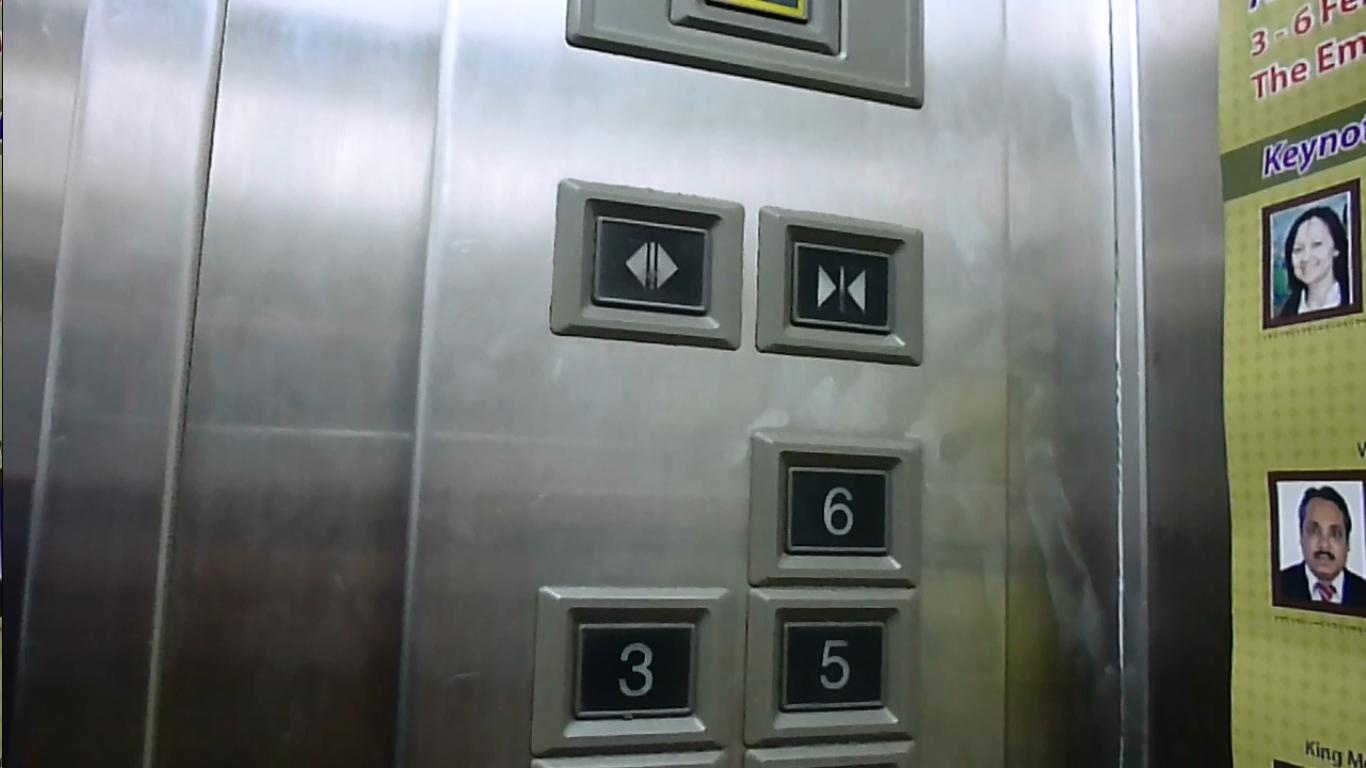3: (521, 577, 755, 767)
5: (739, 579, 931, 753)
6: (739, 427, 931, 592)
close: (751, 201, 935, 376)
open: (540, 171, 748, 368)
